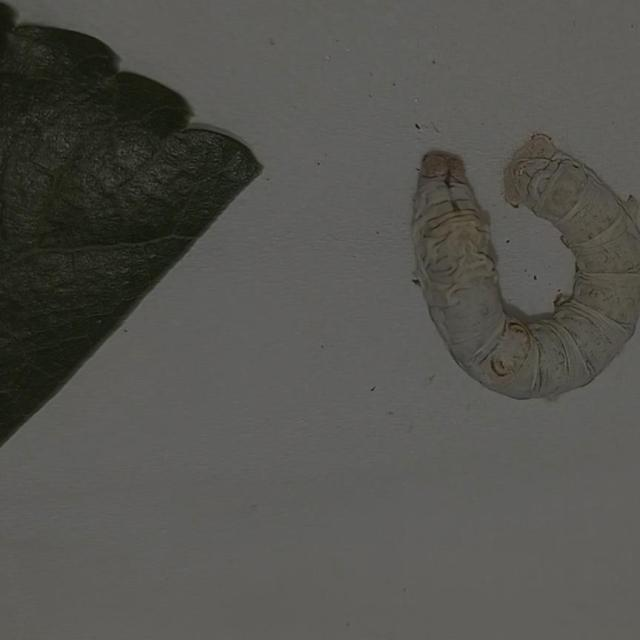Healthy: (353, 106, 640, 433)
